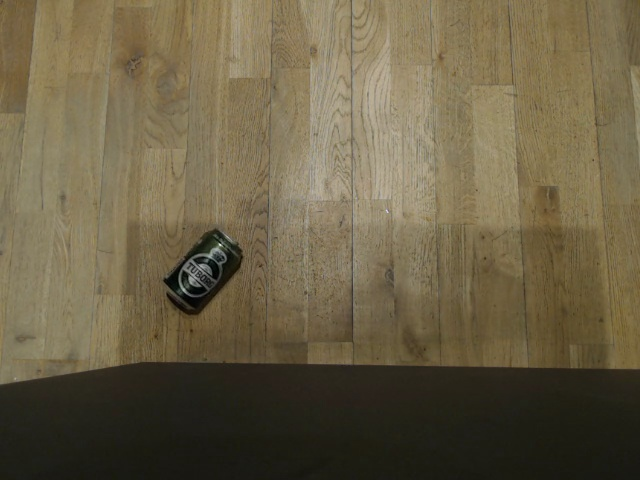beer: (157, 225, 243, 316)
